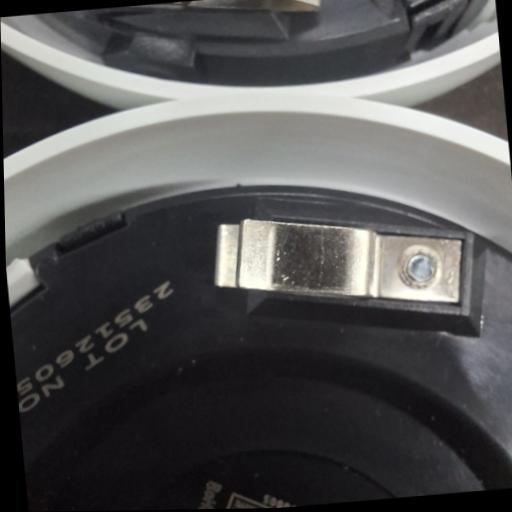yayli: (210, 199, 474, 328)
